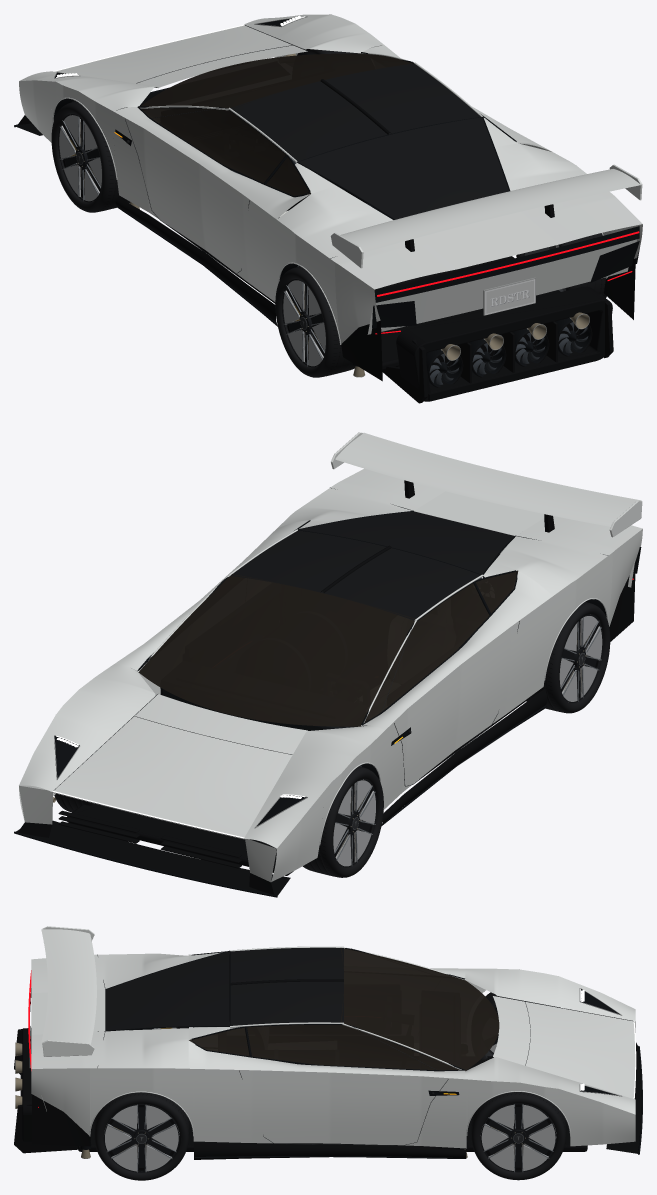
The model's file is roadster-rocket.glb.
3 renders of one model, top to bottom at view 1: azimuth 30°, elevation 25°; view 2: azimuth 150°, elevation 25°; view 3: azimuth 270°, elevation 25°, orthographic. The views are drawn at different scales.
Parts seen in each view (by area): view 1: Sculpted side skin (×5), Rear buttress (×2), Tinted glass T-top, Tapering rear glass, Carbon fan housing, Curved bronze panoramic windscreen, Trapezoidal nose and hood, Pearl-painted active rear airfoil, Bronze side window, Rounded low-profile tire with longitudinal grooves (×2), Front fender shoulder (×2), Rear satin bumper (+16 smaller); view 2: Curved bronze panoramic windscreen, Sculpted side skin (×5), Trapezoidal nose and hood, Front fender shoulder (×2), Tinted glass T-top, Rear buttress (×2), Pearl-painted active rear airfoil, Bronze side window, Tapering rear glass, Cabin shoulder (×2), Rounded low-profile tire with longitudinal grooves (×2), Front splitter (+8 smaller); view 3: Sculpted side skin (×5), Curved bronze panoramic windscreen, Trapezoidal nose and hood, Tinted glass T-top, Rear buttress (×2), Tapering rear glass, Bronze side window, Front fender shoulder (×2), Rounded low-profile tire with longitudinal grooves (×2), Pearl-painted active rear airfoil, Six satin triangular aero inserts (×2), Carbon side skirt (+11 smaller).
Part boxes in pixels (x1,y1,x2,y2): Sculpted side skin (×5): (19,80,380,343); Rear buttress (×2): (277,143,642,289); Tinted glass T-top: (230,63,480,161); Tapering rear glass: (298,117,508,219); Carbon fan housing: (396,286,612,401); Curved bronze panoramic windscreen: (141,53,413,109); Trapezoidal nose and hood: (55,25,307,87); Pearl-painted active rear airfoil: (340,169,641,252); Bronze side window: (141,108,310,195); Rounded low-profile tire with longitudinal grooves (×2): (51,101,355,377); Front fender shoulder (×2): (19,14,384,111); Rear satin bumper: (367,239,636,334); Curved bronze panoramic windscreen: (138,574,415,726); Sculpted side skin (×5): (271,529,642,881); Trapezoidal nose and hood: (54,694,307,837); Front fender shoulder (×2): (19,664,384,848); Tinted glass T-top: (230,530,480,620); Rear buttress (×2): (277,468,642,595); Pearl-painted active rear airfoil: (335,432,641,526); Bronze side window: (364,570,518,722); Tapering rear glass: (299,511,514,574); Cabin shoulder (×2): (114,520,552,729); Rounded low-profile tire with longitudinal grooves (×2): (302,602,610,877); Front splitter: (16,820,290,896); Sculpted side skin (×5): (31,1068,635,1148); Curved bronze panoramic windscreen: (340,948,499,1070); Trapezoidal nose and hood: (493,996,635,1098); Tinted glass T-top: (230,947,343,1025); Rear buttress (×2): (31,953,188,1068); Tapering rear glass: (105,951,229,1030); Bronze side window: (189,1024,459,1070); Front fender shoulder (×2): (465,968,635,1114); Rounded low-profile tire with longitudinal grooves (×2): (94,1092,565,1180); Pearl-painted active rear airfoil: (41,929,96,1044); Six satin triangular aero inserts (×2): (104,1104,556,1171); Carbon side skirt: (194,1143,466,1159).
Bounding box in the file's own units: 2.12 × 1.23 × 4.84.
Materials: 71 (10 with a texture image).
